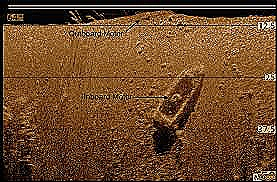ship: (148, 60, 207, 138)
